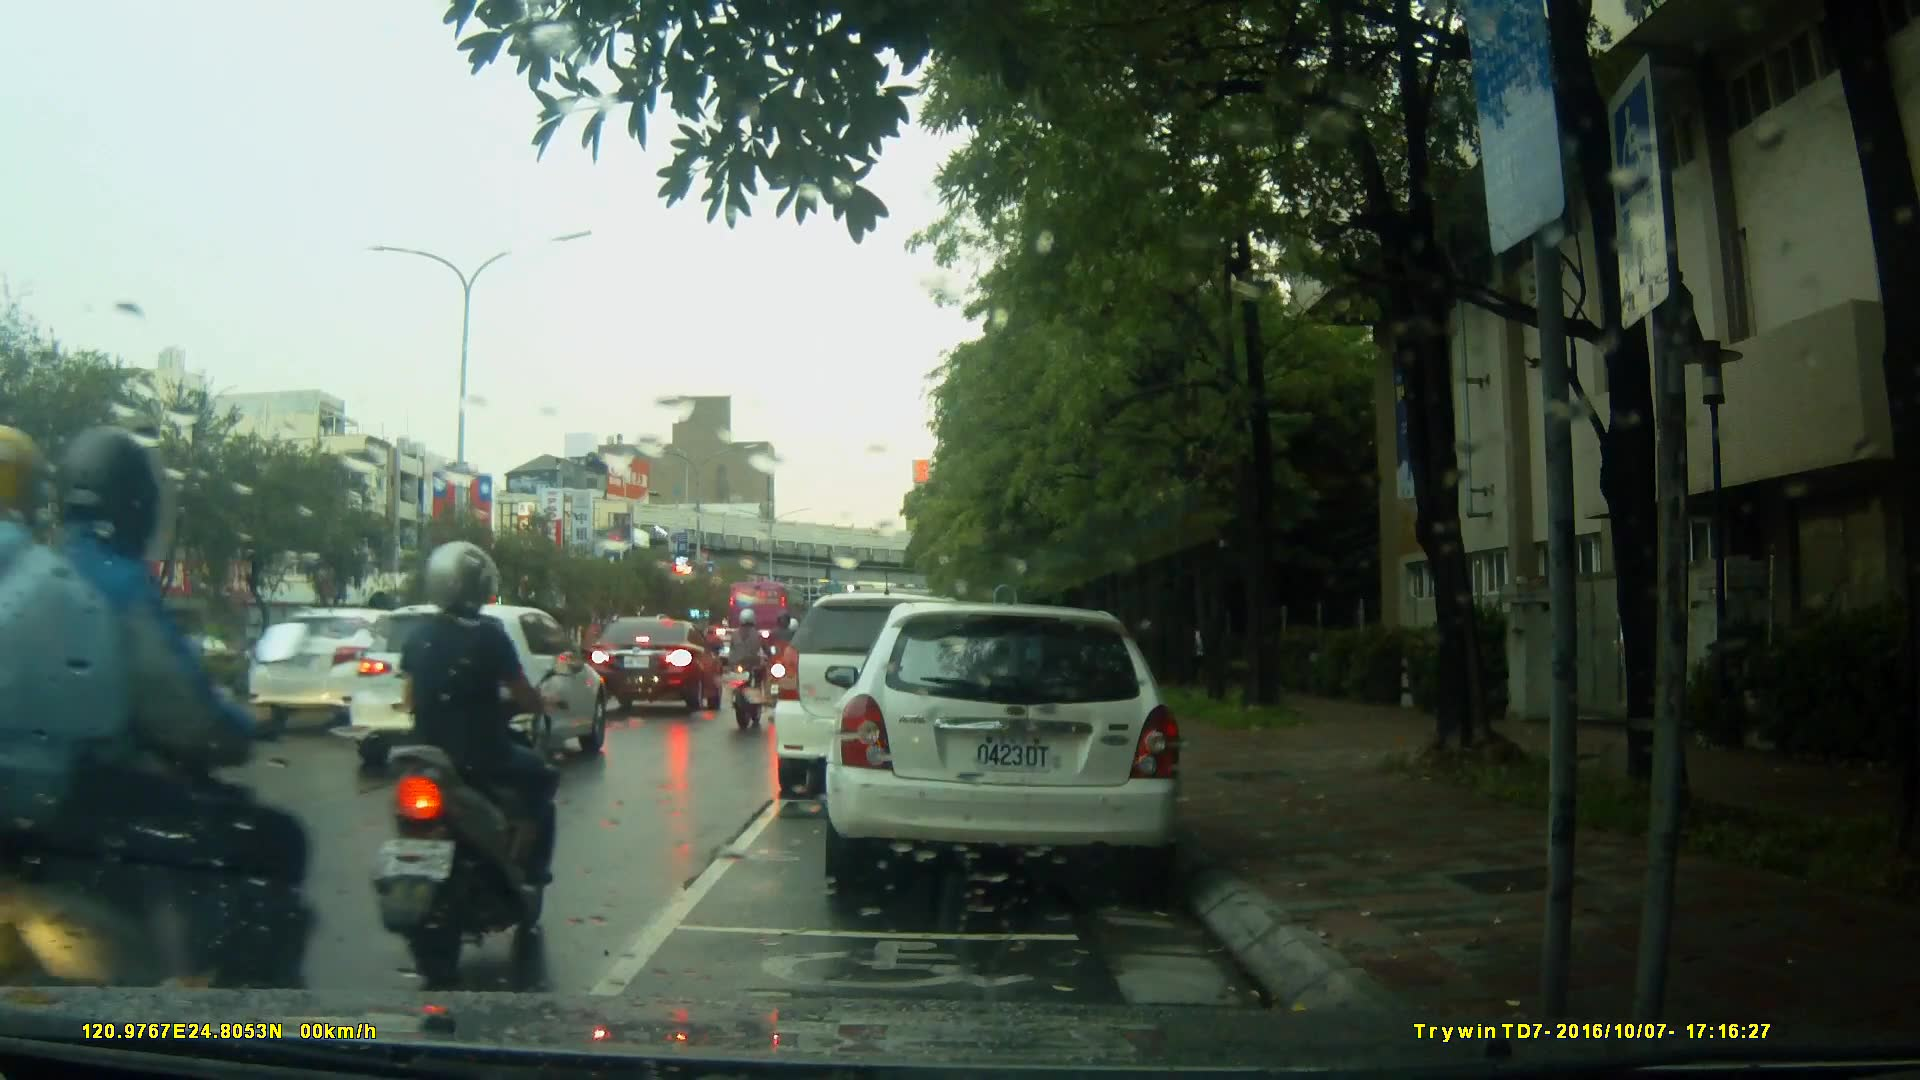rider: (1, 430, 304, 1050), (371, 544, 563, 967), (721, 609, 779, 738)
vehicle: (835, 594, 1194, 898), (776, 590, 1026, 784), (347, 603, 611, 772), (580, 615, 726, 716), (728, 580, 809, 650)
